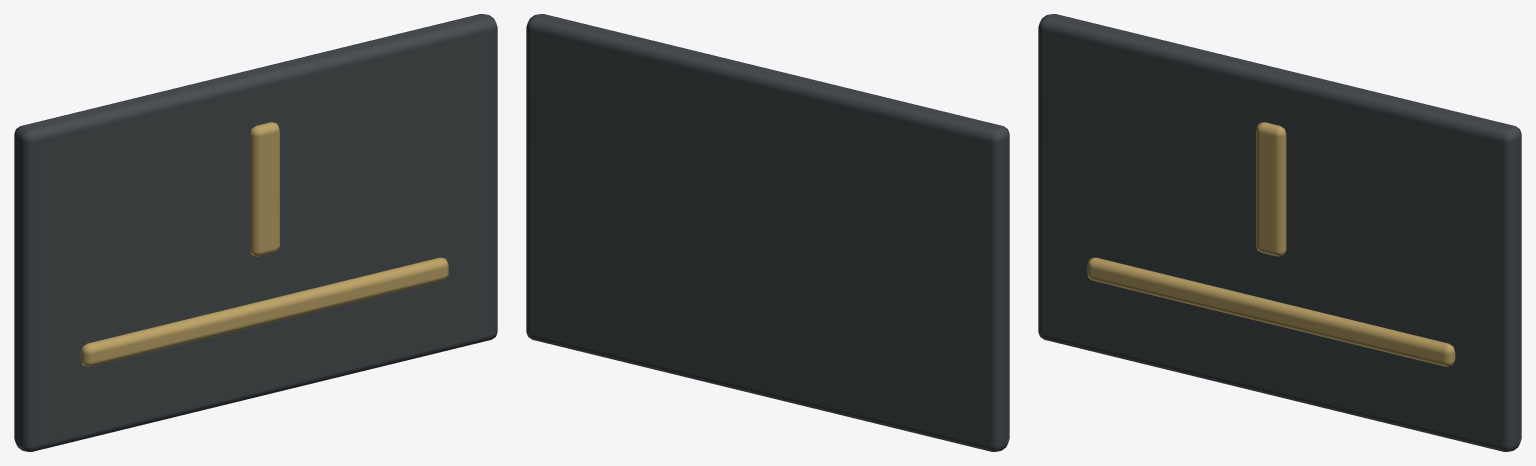
The model's file is undercity-sewers-and-thieves-den-warning-plaque-e3a70a5b__27214.glb.
The picture shows the model from 3 angles, left to right: view 1: azimuth 30°, elevation 25°; view 2: azimuth 150°, elevation 25°; view 3: azimuth 330°, elevation 25°; orthographic projection.
Visible parts, largest first — view 1: warning-plaque; view 2: warning-plaque; view 3: warning-plaque.
Part boxes in pixels (x1=…): warning-plaque: x1=14, y1=14, x2=497, y2=451; warning-plaque: x1=526, y1=14, x2=1009, y2=451; warning-plaque: x1=1038, y1=14, x2=1521, y2=451.
Size of the model in its own units: 0.65 by 0.42 by 0.0475.
